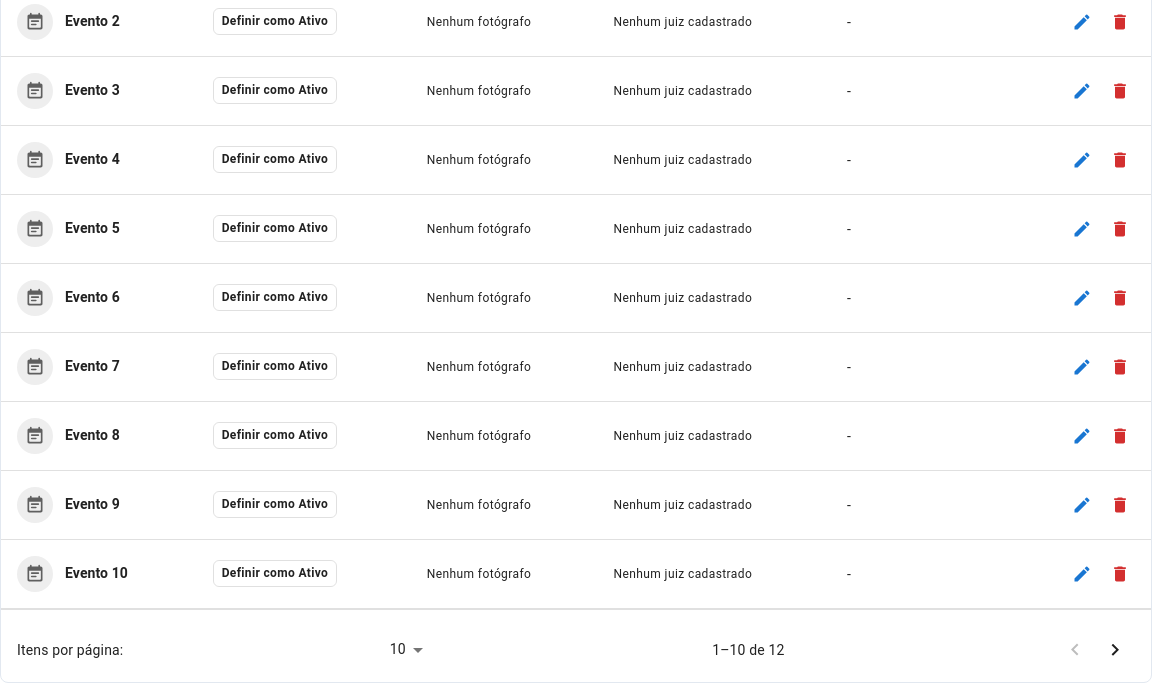
Test: SeasonsPage › paginates seasons when count exceeds rowsPerPage
(page scrolled)
Check: the heading "Evento 10" is shown, box [65, 562, 128, 584]
Check: the text "Evento 11" is not shown
Click the button named "Go to next page" at (1115, 650), box [1095, 630, 1135, 670]
(page scrolled)
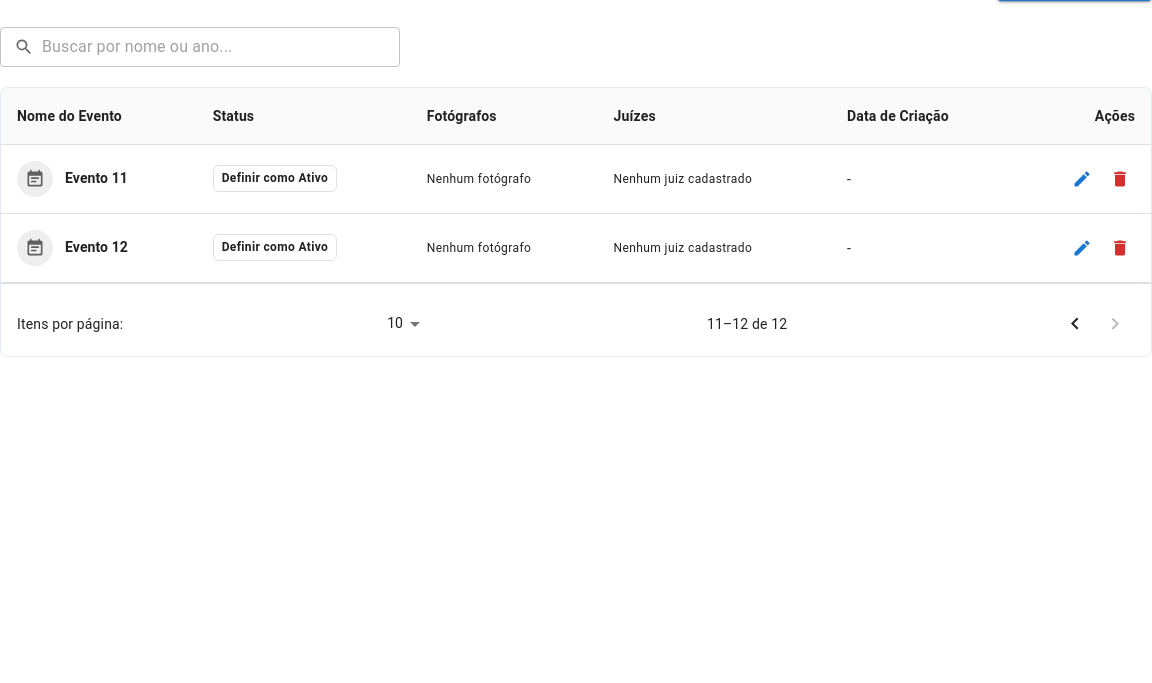
Check: the heading "Evento 11" is shown, box [65, 168, 128, 190]
Check: the heading "Evento 12" is shown, box [65, 236, 128, 258]
